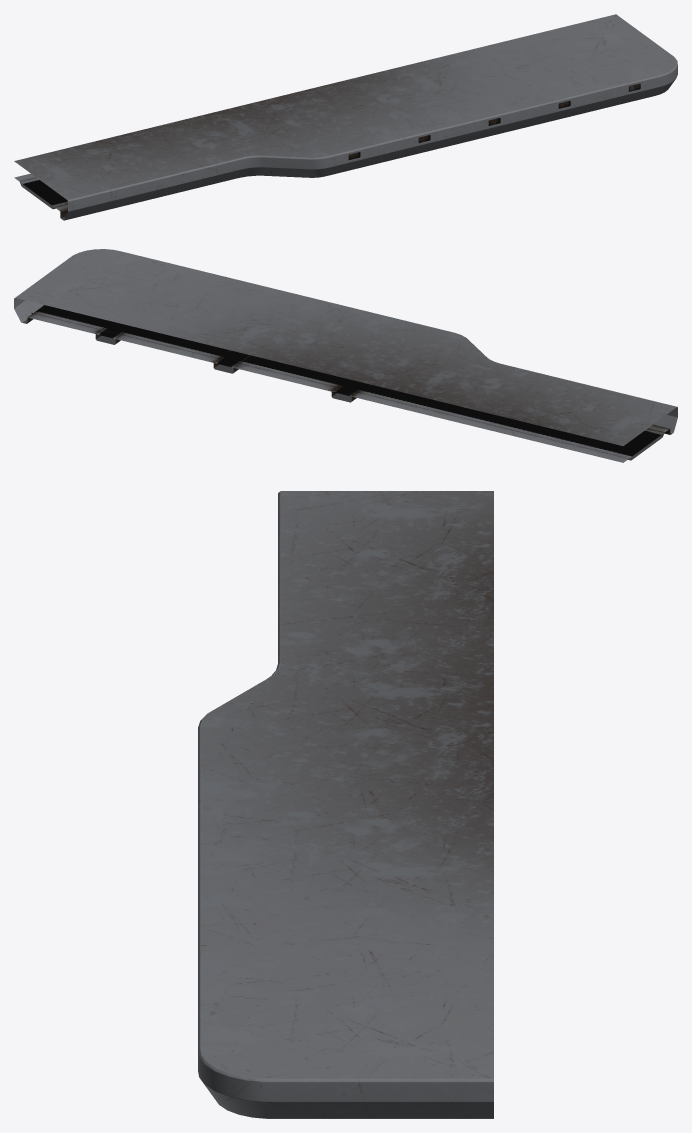
File: SM_HangarWallFloor01.fbx
3 views of the same model, one above another, from view 1: azimuth 30°, elevation 25°; view 2: azimuth 150°, elevation 25°; view 3: azimuth 270°, elevation 25° (orthographic). The views are drawn at different scales.
Parts seen in each view (by area): view 1: SM_HangarWallFloor01_LOD0; view 2: SM_HangarWallFloor01_LOD0; view 3: SM_HangarWallFloor01_LOD0.
Boxes of the visible parts, bbox=[...] form: SM_HangarWallFloor01_LOD0: bbox=[14, 14, 677, 220]; SM_HangarWallFloor01_LOD0: bbox=[14, 249, 677, 462]; SM_HangarWallFloor01_LOD0: bbox=[198, 491, 493, 1118].
Size of the model in its own units: 1603 by 341 by 58.6.
Materials: 1 (1 with a texture image).
